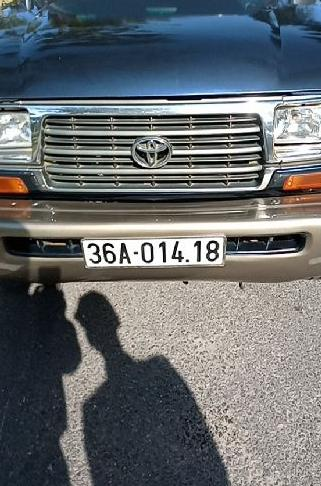Plate-iWeP: (82, 235, 228, 271)
